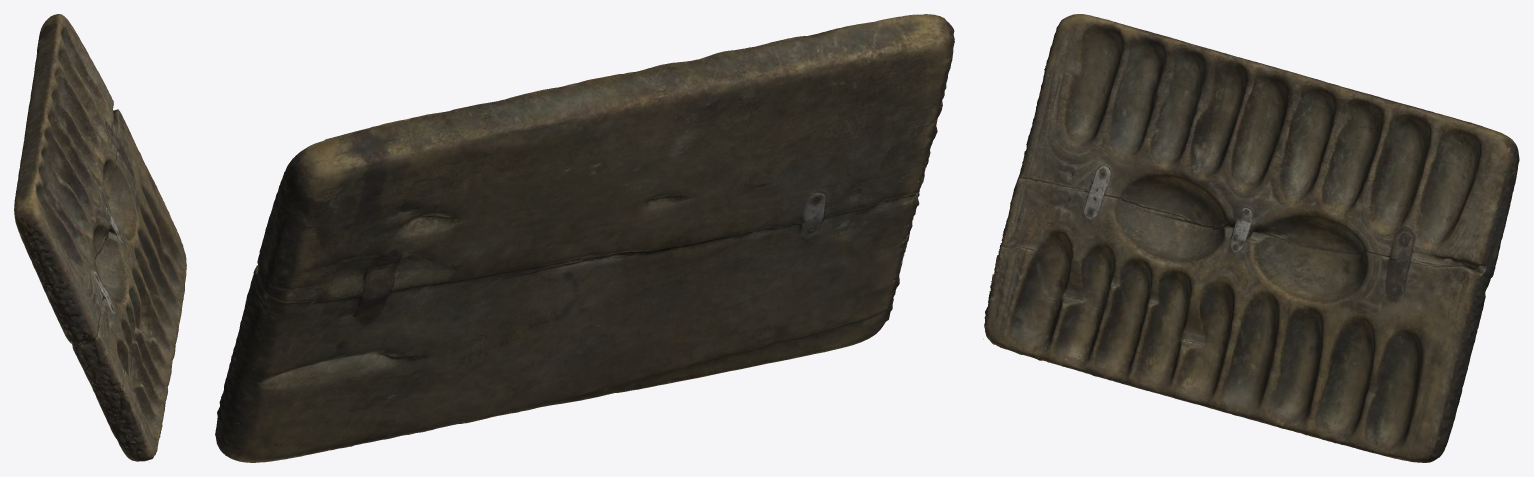
File: togyzqumalaq.glb
3 renders of one model, left to right at view 1: azimuth 30°, elevation 25°; view 2: azimuth 150°, elevation 25°; view 3: azimuth 270°, elevation 25°, orthographic. The views are drawn at different scales.
Parts seen in each view (by area): view 1: Polygon Reduction; view 2: Polygon Reduction; view 3: Polygon Reduction.
Part boxes in pixels (x1=…): Polygon Reduction: x1=14, y1=14, x2=186, y2=462; Polygon Reduction: x1=215, y1=14, x2=954, y2=462; Polygon Reduction: x1=983, y1=14, x2=1519, y2=462.
Size of the model in its own units: 187 by 143 by 238.
1 material, 1 textured.
